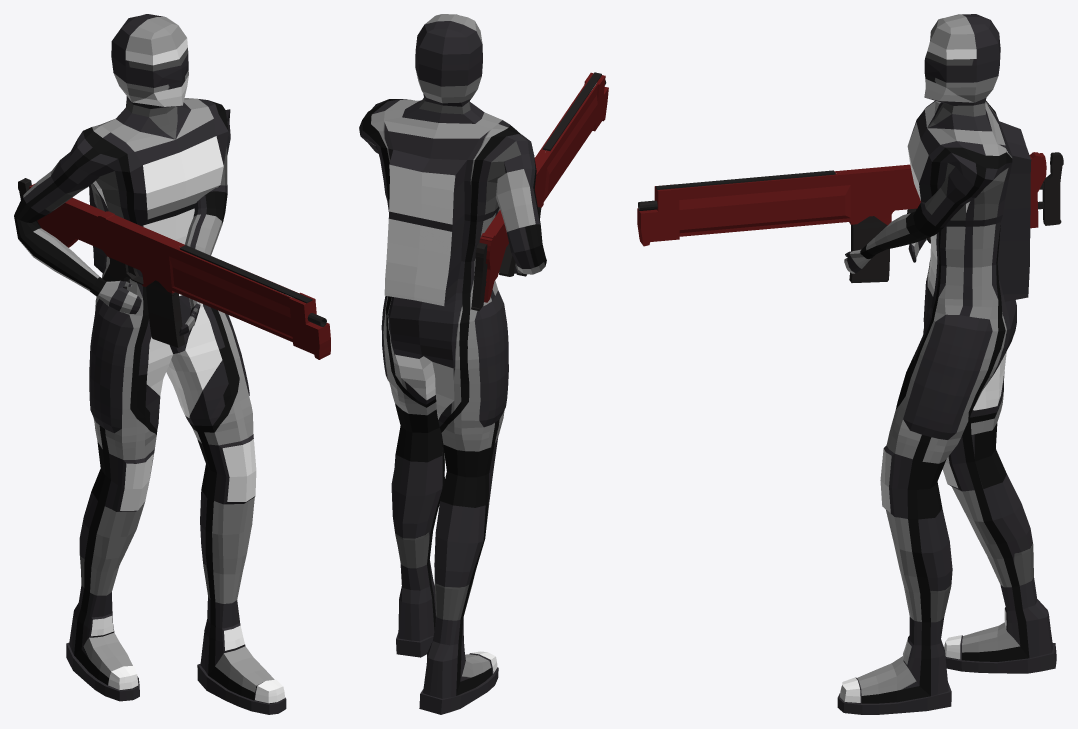
File: SCI6.obj
3 renders of one model, left to right at view 1: azimuth 30°, elevation 25°; view 2: azimuth 150°, elevation 25°; view 3: azimuth 270°, elevation 25°, orthographic.
Parts seen in each view (by area): view 1: metarig_object_metarig_mesh, Cube.001; view 2: metarig_object_metarig_mesh, Cube.001; view 3: metarig_object_metarig_mesh, Cube.001.
Part boxes in pixels (bbox=[...]): metarig_object_metarig_mesh: bbox=[14, 14, 286, 714]; Cube.001: bbox=[18, 178, 330, 359]; metarig_object_metarig_mesh: bbox=[359, 14, 546, 714]; Cube.001: bbox=[471, 72, 608, 310]; metarig_object_metarig_mesh: bbox=[837, 14, 1056, 714]; Cube.001: bbox=[637, 152, 1063, 282].
Bounding box in the file's own units: 0.4725 × 1.53 × 0.8935.
Materials: 2 (2 with a texture image).
